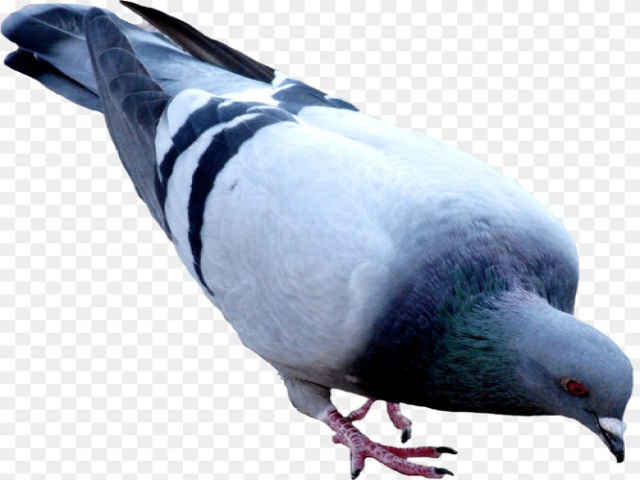Pigeon: (2, 1, 634, 478)
